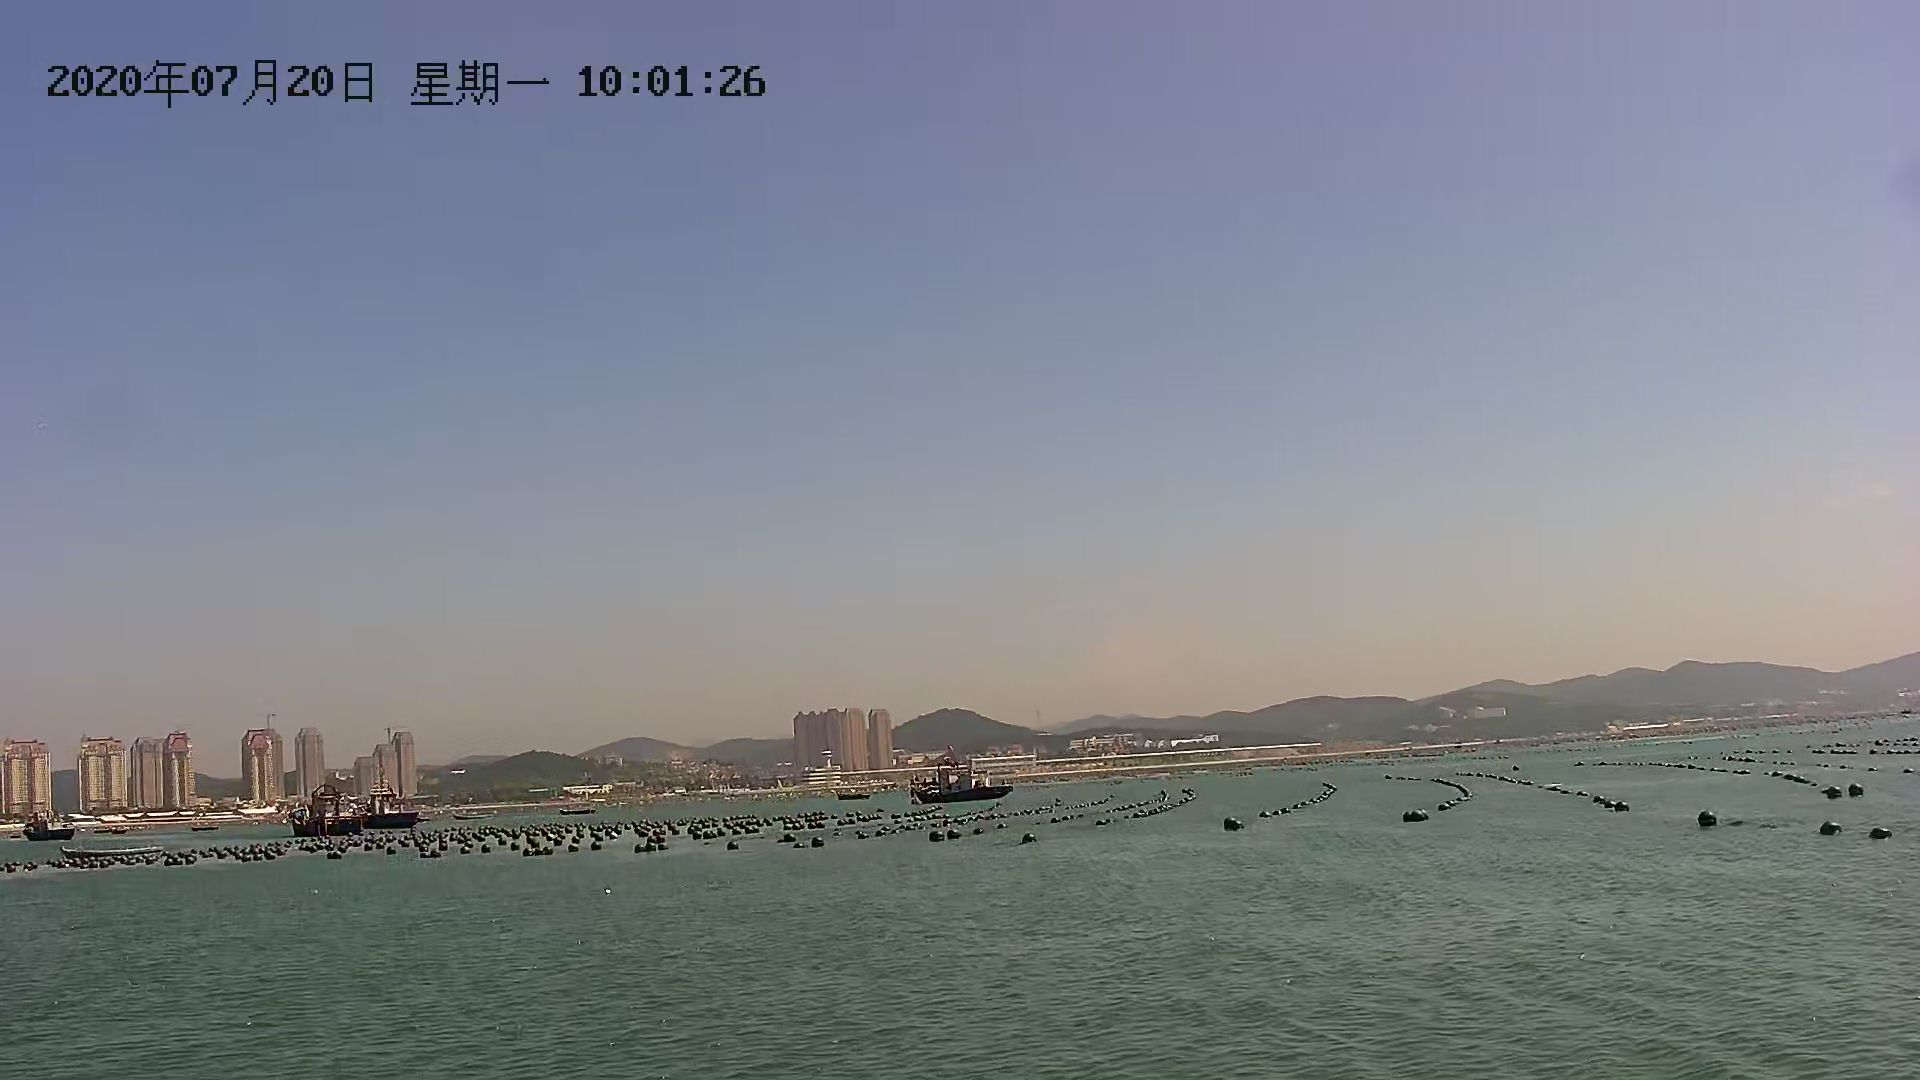ball: (1217, 811, 1251, 835), (1820, 818, 1849, 843), (1693, 807, 1724, 831), (1407, 810, 1433, 827), (1019, 829, 1042, 848), (1867, 827, 1887, 840)
boat: (361, 789, 444, 844), (53, 839, 164, 861), (24, 814, 80, 847), (831, 785, 887, 807), (556, 806, 603, 820)
ship: (909, 758, 1015, 804), (287, 789, 363, 837)
